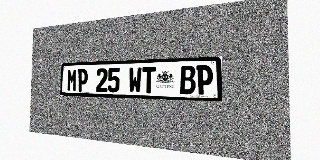2: (96, 68, 108, 92)
5: (108, 68, 120, 93)
B: (180, 65, 195, 94)
M: (67, 69, 77, 91)
P: (196, 65, 213, 95), (77, 68, 88, 92)
T: (142, 67, 156, 93)
W: (128, 67, 142, 93)
